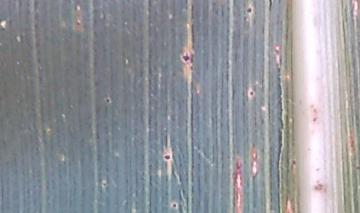tarspot: (179, 51, 196, 65), (161, 152, 176, 163), (102, 94, 114, 105), (244, 4, 254, 16), (169, 200, 180, 210), (248, 87, 255, 101)
